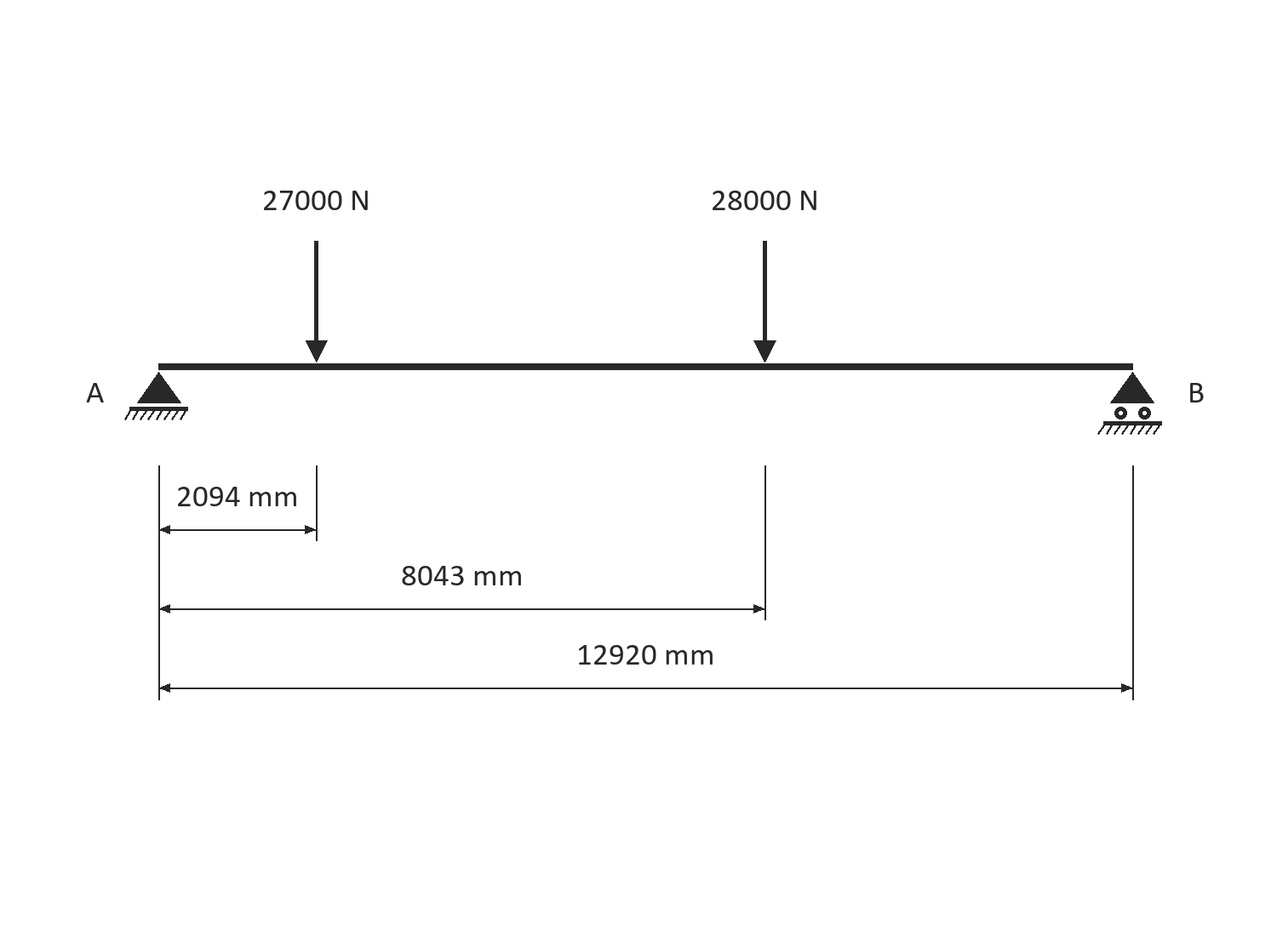pin_support: (124, 372, 188, 420)
point_load: (753, 241, 776, 362), (306, 241, 328, 362)
roller_support: (1097, 372, 1162, 435)
